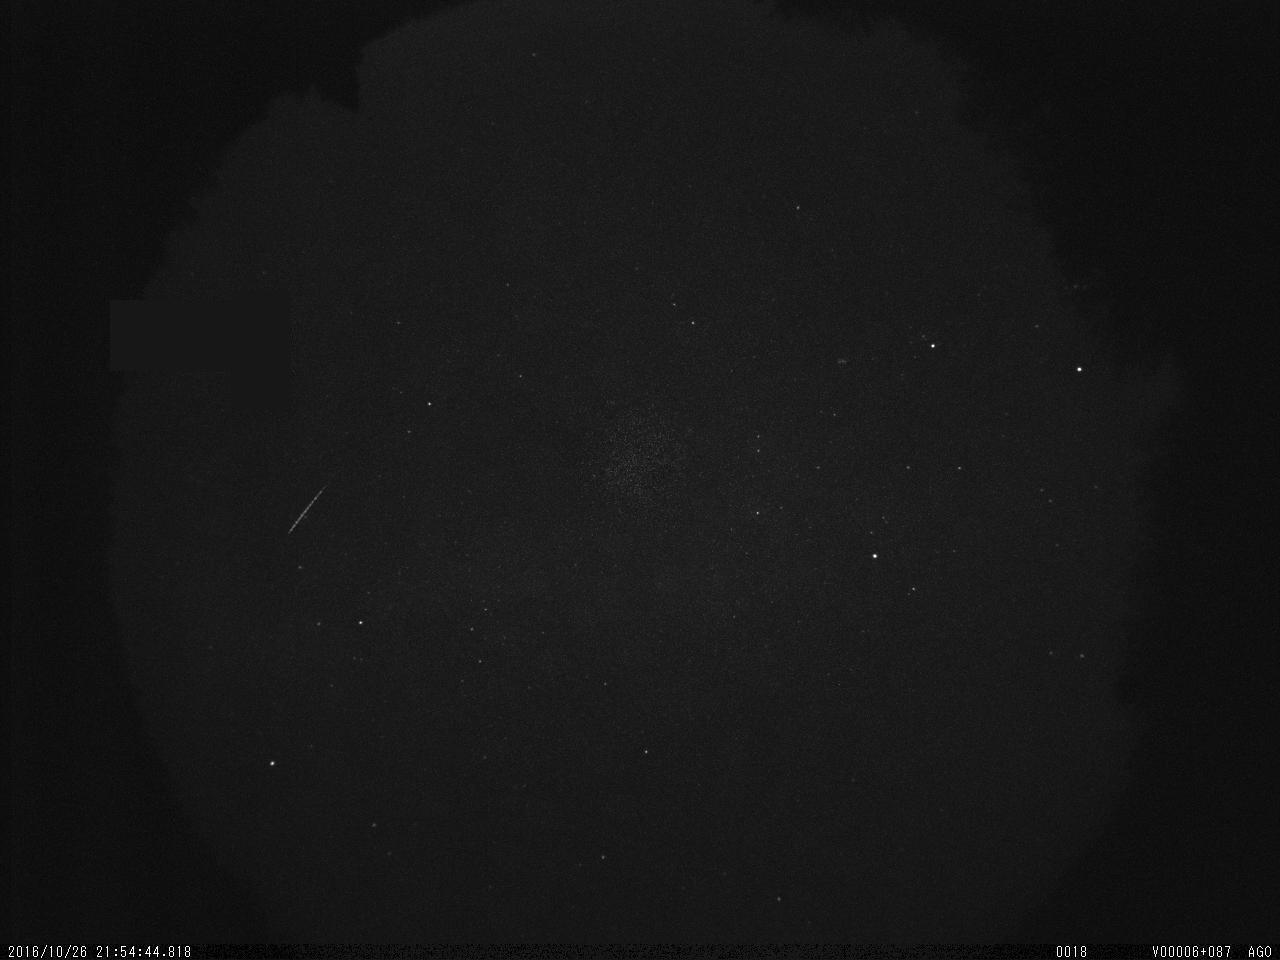meteor: (259, 470, 352, 549)
